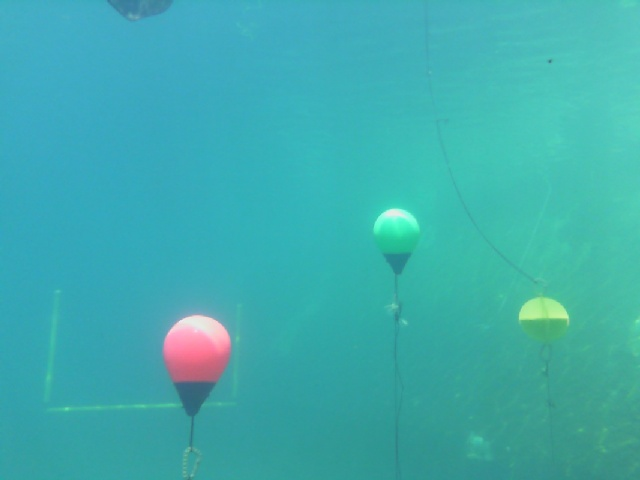buoy_green: (373, 205, 426, 275)
buoy_red: (160, 312, 230, 429)
buoy_yellow: (517, 292, 570, 350)
channel: (36, 289, 246, 416)
